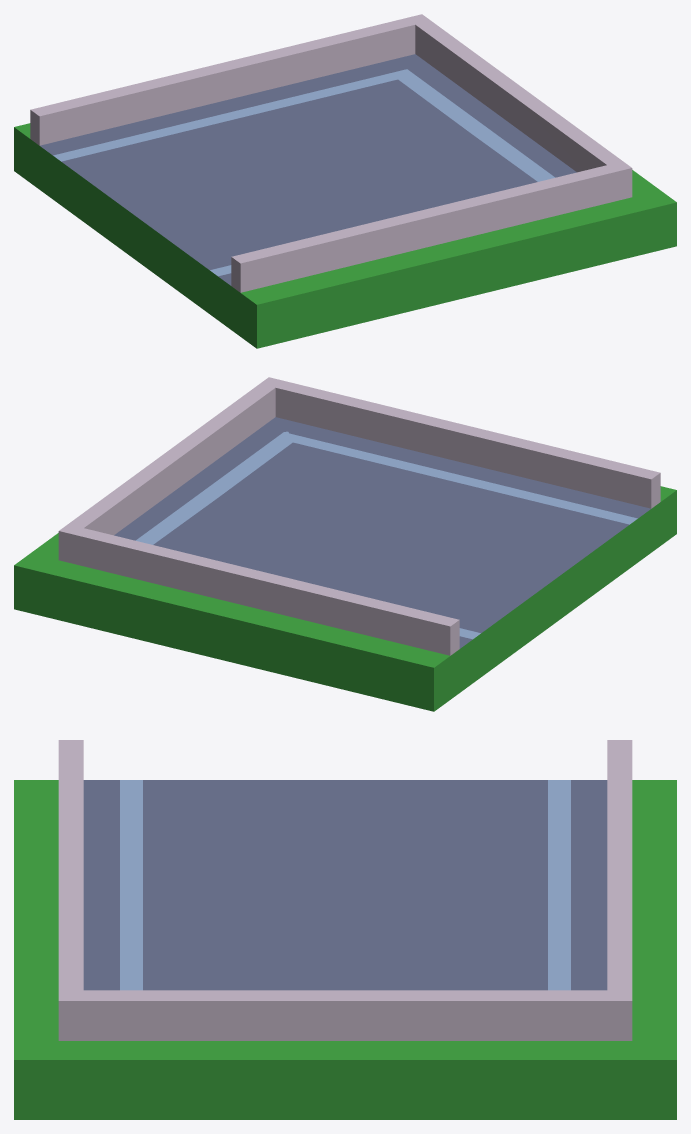
The model's file is Closed Base.fbx.
3 views of the same model, one above another, from view 1: azimuth 30°, elevation 25°; view 2: azimuth 150°, elevation 25°; view 3: azimuth 270°, elevation 25° (orthographic). The views are drawn at different scales.
Parts seen in each view (by area): view 1: Box026; view 2: Box026; view 3: Box026.
Boxes of the visible parts, x1=… form: Box026: x1=14, y1=14, x2=676, y2=348; Box026: x1=14, y1=377, x2=676, y2=711; Box026: x1=14, y1=740, x2=676, y2=1119.
Size of the model in its own units: 50.47 by 8.42 by 50.54.
